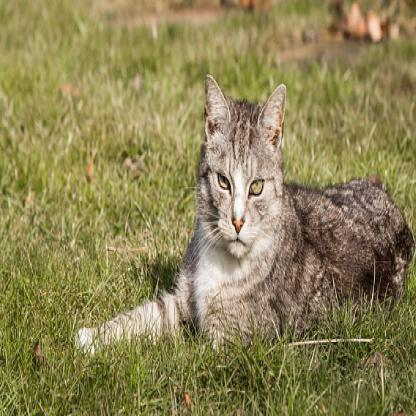cat: (72, 66, 415, 349)
